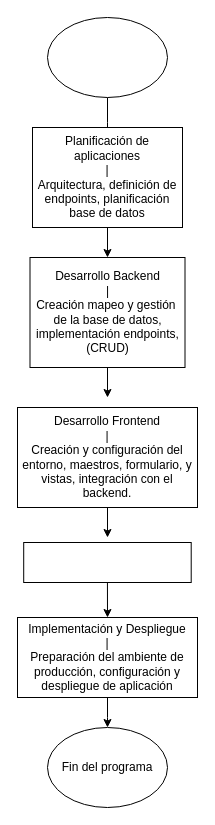
The diagram is 215 pixels wide and 825 high, and some of its shapes have lost their labels. Here are the shapes that lost their labels. From the top down, the centre of each, then its label:
pixel 107 57: Inicio del Programa
pixel 107 562: Pruebas y Validaciones Pruebas Unitarias.
